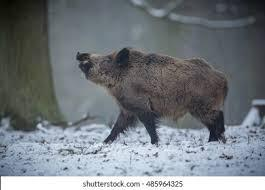wildboar: (73, 45, 230, 146)
